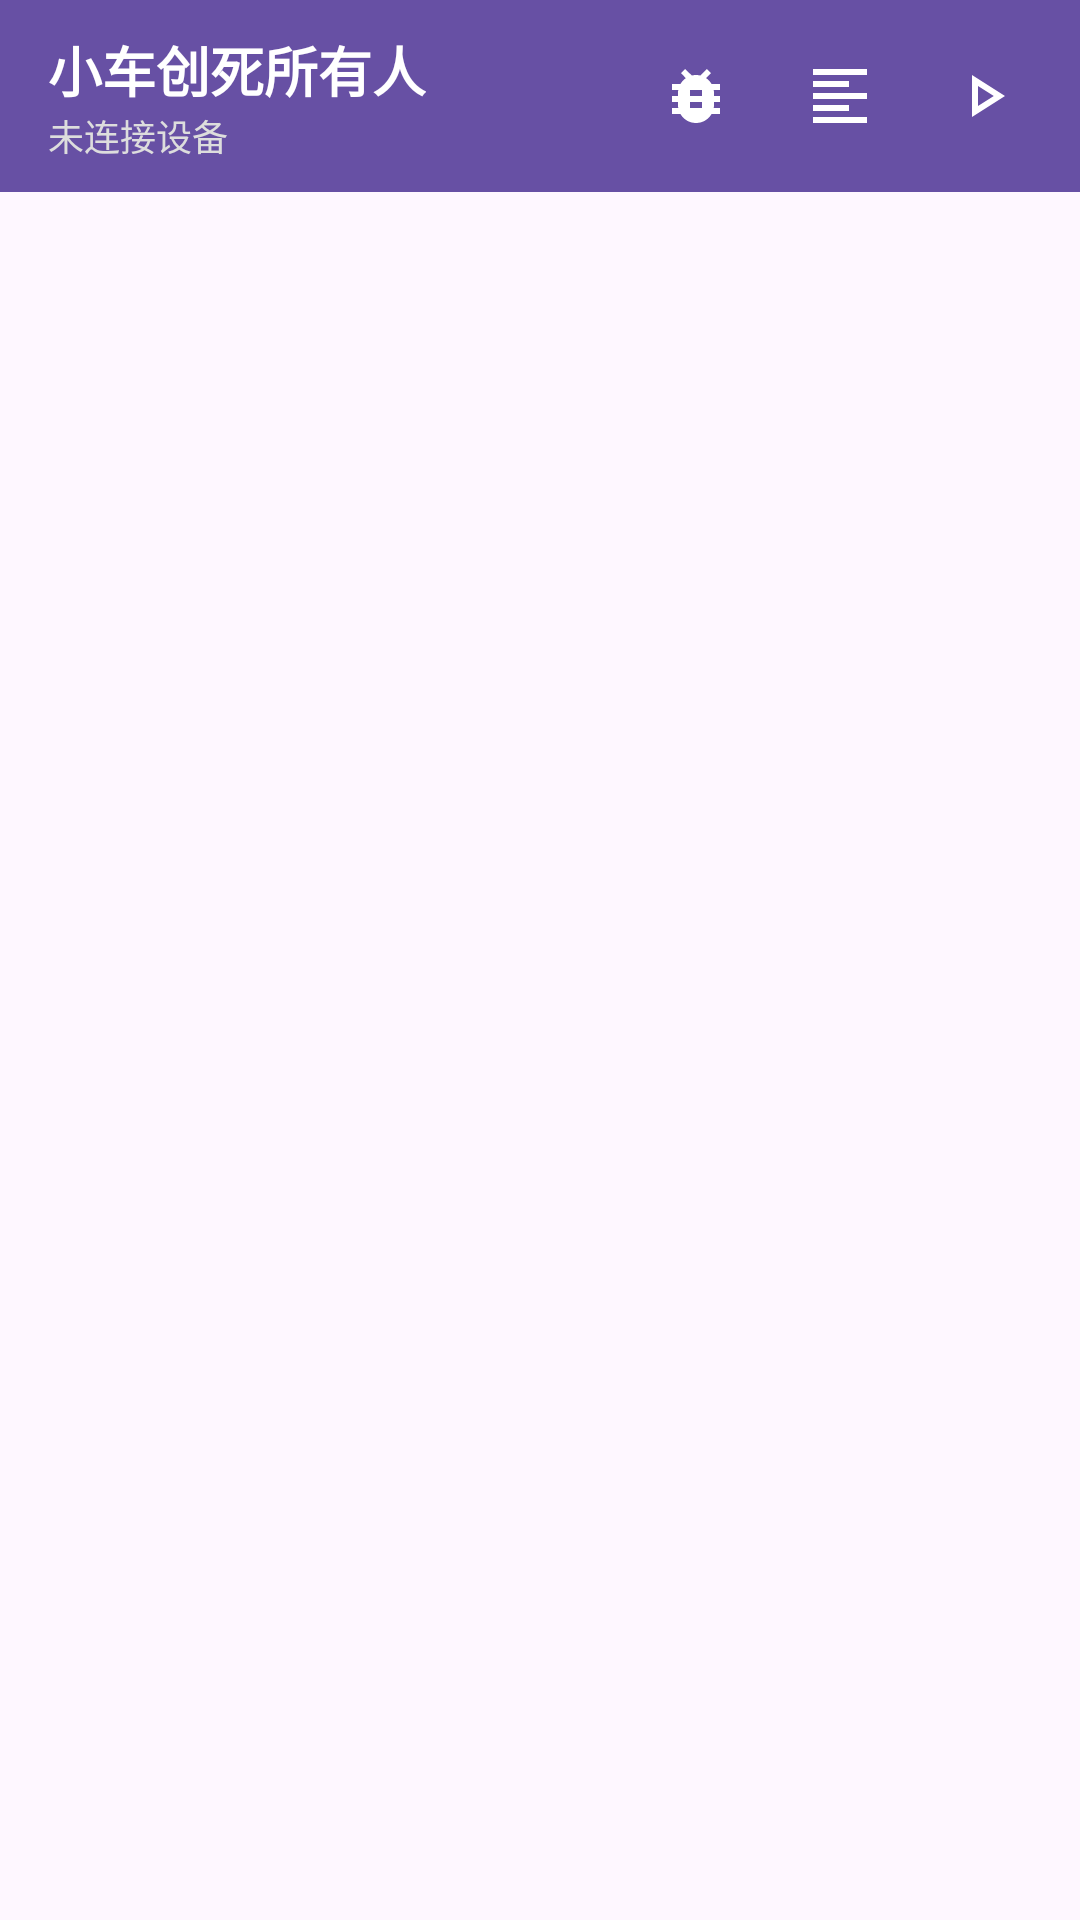

Icon click points for this 1080*1920 phone screenshot, format (x=x, y=y):
debug: (x=696, y=96)
format: (x=840, y=96)
play arrow: (x=988, y=96)
